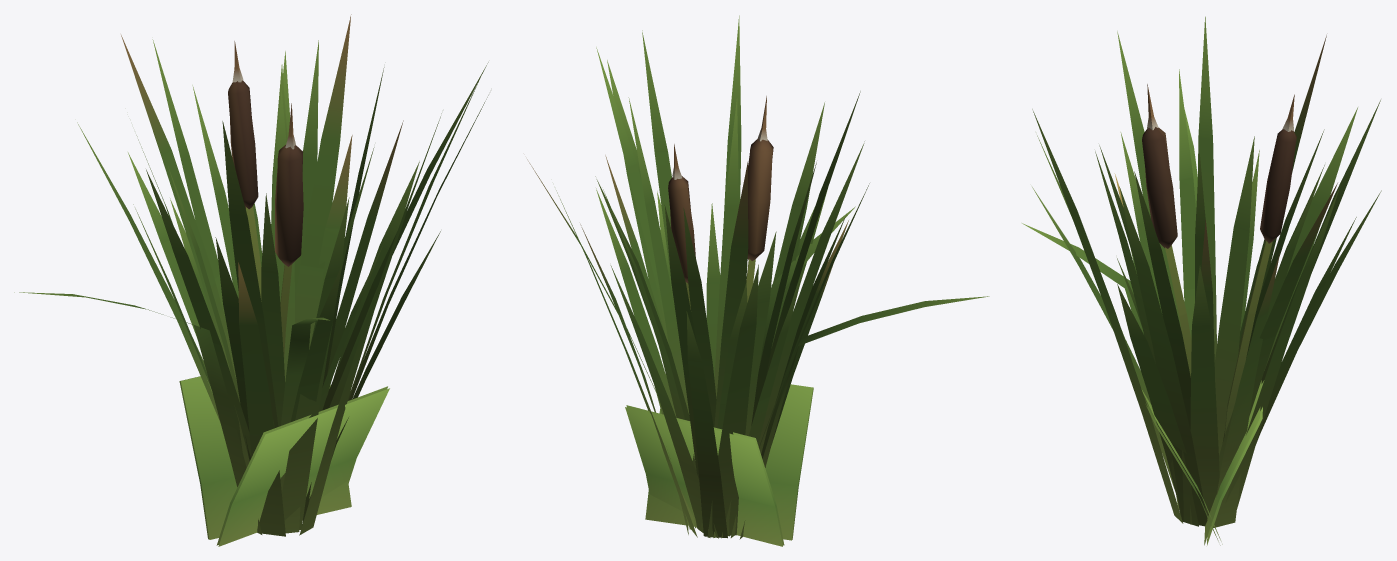
The model's file is reeds_1.glb.
3 renders of one model, left to right at view 1: azimuth 30°, elevation 25°; view 2: azimuth 150°, elevation 25°; view 3: azimuth 270°, elevation 25°, orthographic. The views are drawn at different scales.
Visible parts, largest first — view 1: reeds_1; view 2: reeds_1; view 3: reeds_1.
Boxes of the visible parts, x1,y1,x2,y2 form: reeds_1: [14, 14, 488, 546]; reeds_1: [527, 15, 989, 546]; reeds_1: [1022, 16, 1381, 545].
Bounding box in the file's own units: 0.431 × 0.4286 × 0.32.
